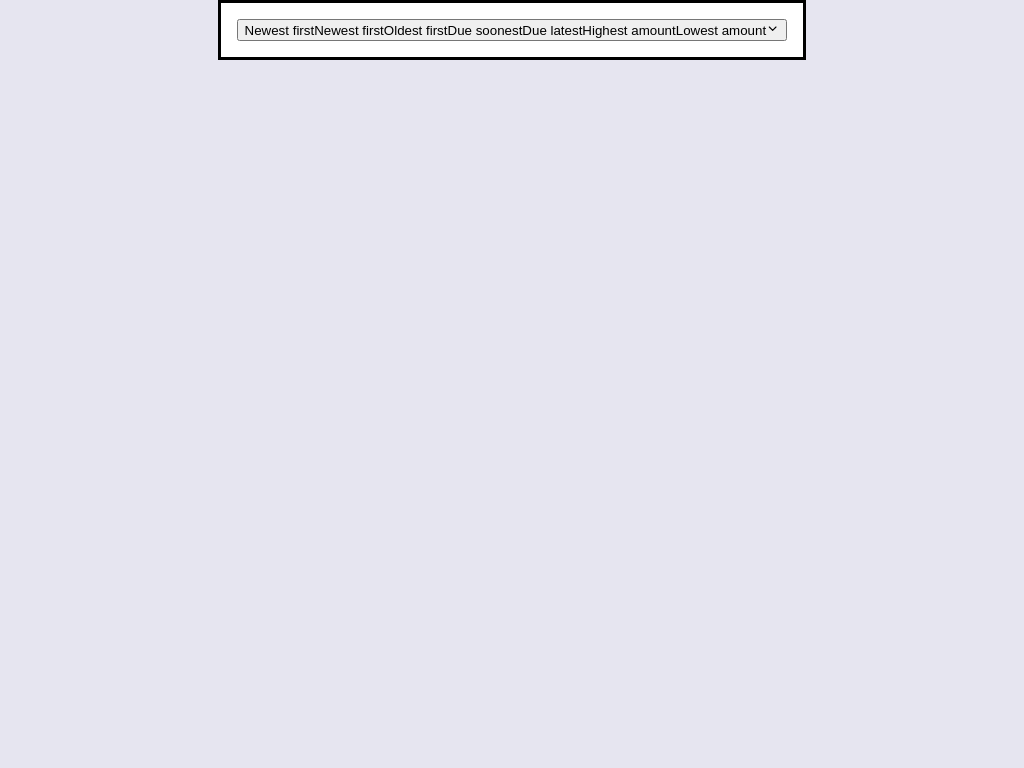
Test: renders inside open dialogs
Later steps or results of the test are not shown.
Click the dropdown named "Sort" at (512, 30), box [236,19,787,41]
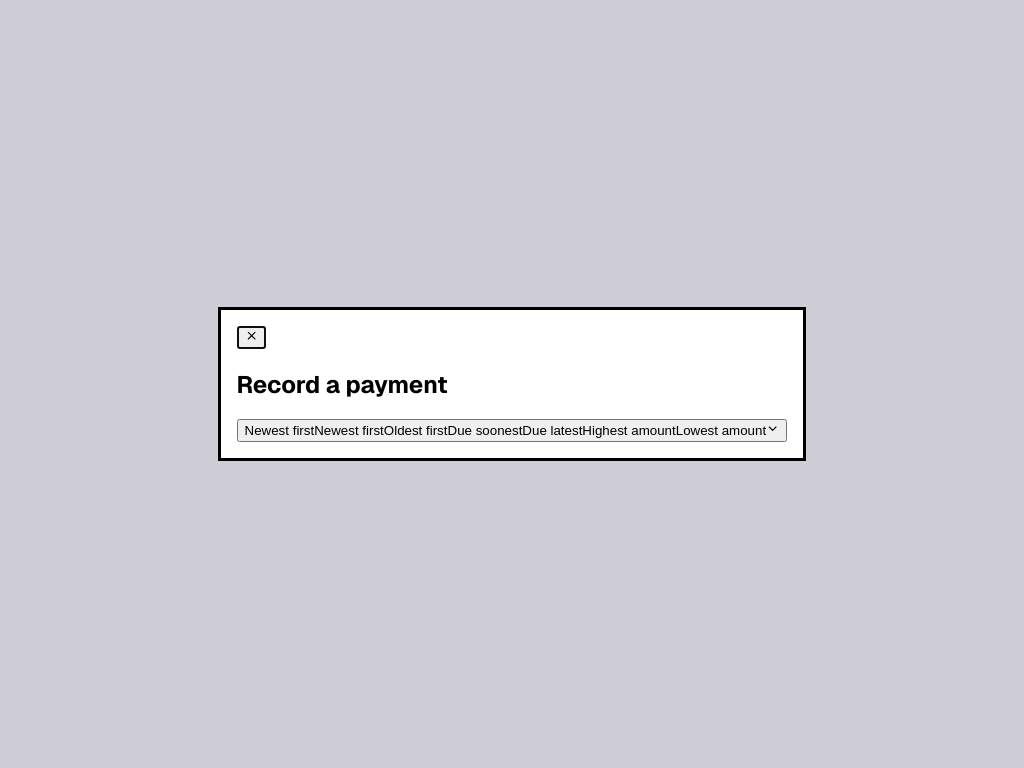
Click the dropdown named "Sort" at (512, 431), box [236,419,787,442]
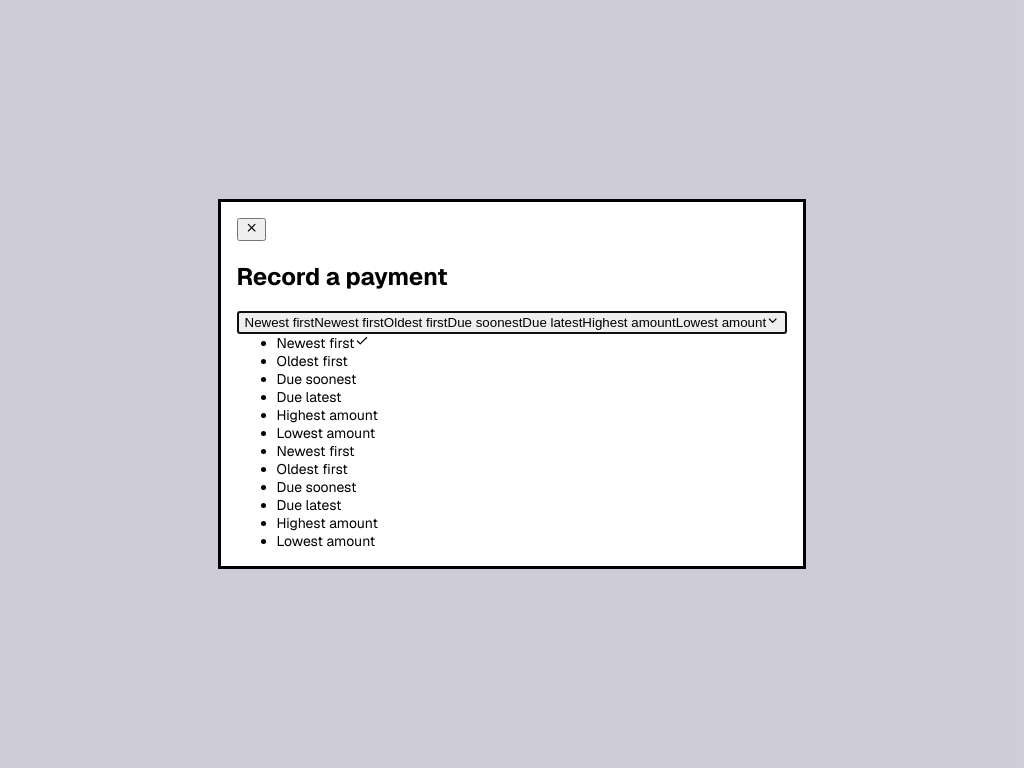
Click the dialog at (512, 384), box [218,199,806,569]
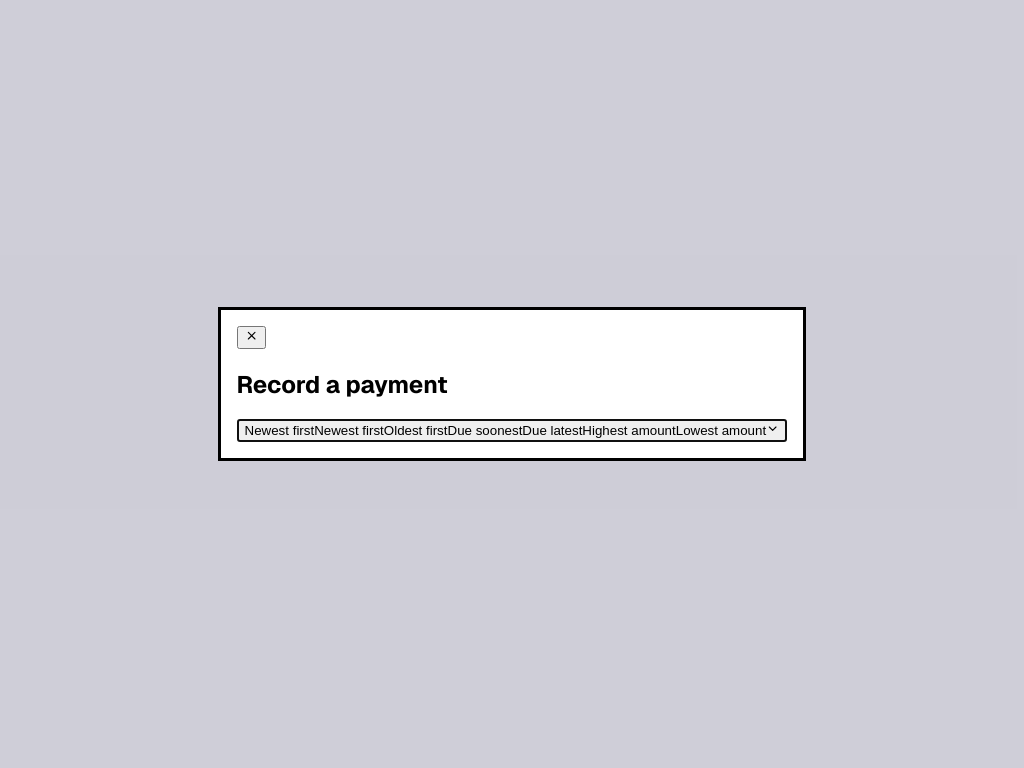
Check: the list is gone
